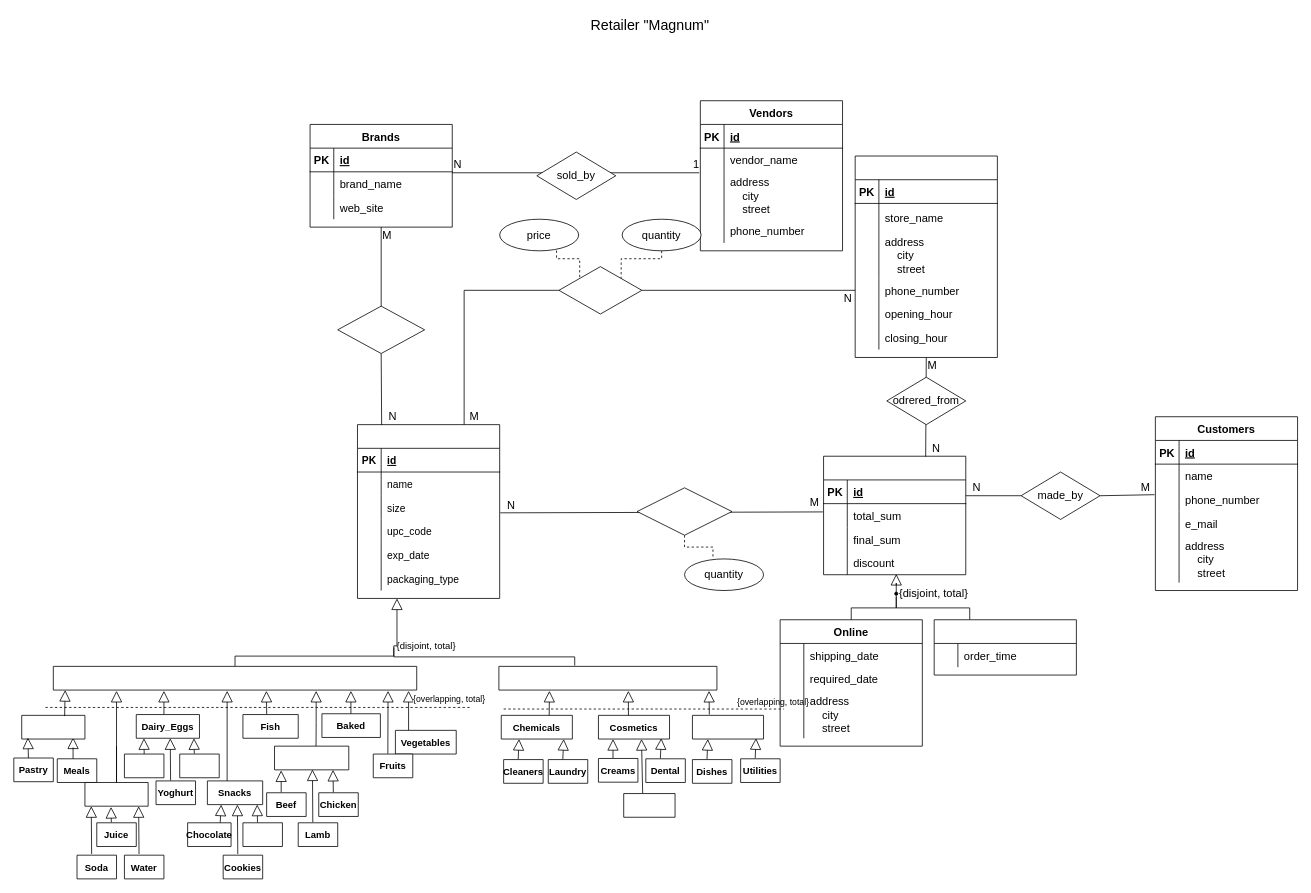
Some shapes in this 1311 by 893 pixel diagram are drawn without their labels. The shapes that lost their labels are listed below. From the top down, each one's box as (x1, y1, x2, y2) in pixels, then its label:
(854, 155, 997, 357): Stores
(558, 266, 642, 314): Inventory
(337, 305, 425, 354): product_brand
(357, 424, 500, 598): Product
(636, 487, 732, 535): order_items
(823, 455, 966, 575): Order
(933, 619, 1076, 675): In_Store
(53, 666, 417, 690): Food
(498, 666, 717, 690): Non_Food
(21, 715, 85, 739): Frozen_Food
(692, 715, 764, 739): Household
(124, 753, 164, 778): Milk
(179, 753, 219, 778): Eggs
(274, 745, 349, 770): Meat_Poultry
(84, 782, 148, 806): Beverages
(623, 793, 675, 817): Hair_product
(242, 822, 282, 846): Sweets
